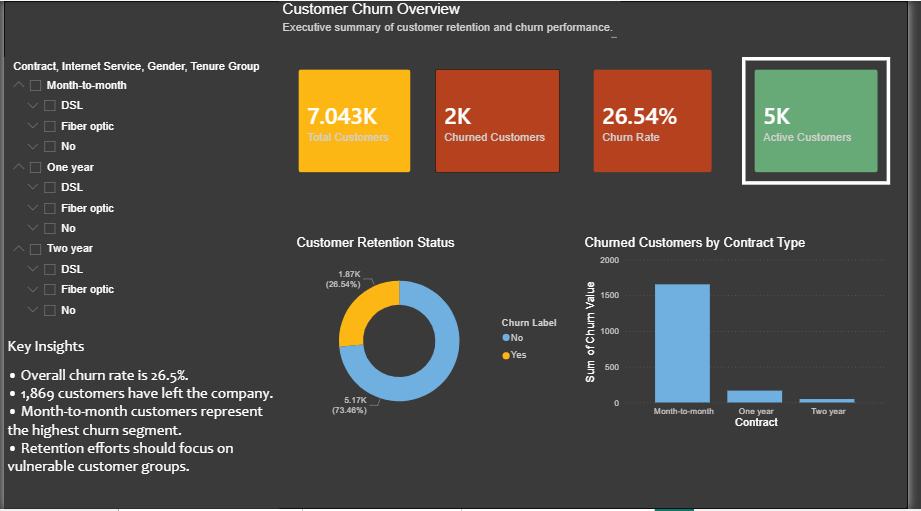

The dashboard page shown, as its layout file describes it:
{"tool":"powerbi","page":{"name":"Customer Churn Overview","canvas":[1280,720],"ordinal":0},"visuals":[{"type":"cardVisual","title":"Total Customers Card","fields":{"Data":["Count(customer_churn_powerbi.CustomerID)"]},"box":[399.7,79.4,194.2,181.4],"z":0},{"type":"cardVisual","fields":{"Data":["Sum(customer_churn_powerbi.Churn Value)"]},"box":[593.9,79.4,211.2,181.4],"z":1000},{"type":"cardVisual","fields":{"Data":["customer_churn_powerbi.Churn Rate"]},"box":[817.9,79.2,203,181.4],"z":2000},{"type":"donutChart","title":"Customer Retention Status","fields":{"Category":["customer_churn_powerbi.Churn Label"],"Y":["Count(customer_churn_powerbi.CustomerID)"]},"box":[409,331.2,396,279.4],"z":3000},{"type":"clusteredColumnChart","title":"Churned Customers by Contract Type","fields":{"Category":["customer_churn_powerbi.Contract"],"Y":["Sum(customer_churn_powerbi.Churn Value)"]},"box":[817.9,331.2,437.8,279.4],"z":4000},{"type":"cardVisual","fields":{"Data":["customer_churn_powerbi.Active Customers"]},"box":[1045.4,79.2,210.2,181.4],"z":5000},{"type":"textbox","box":[0,470.9,390.2,249.1],"z":6000},{"type":"textbox","title":"Customer Churn Overview","box":[390.2,0,483.8,56.2],"z":7000},{"type":"slicer","fields":{"Values":["customer_churn_powerbi.Contract","customer_churn_powerbi.Internet Service","customer_churn_powerbi.Gender","customer_churn_powerbi.Tenure Group"]},"box":[0,79.4,409.6,391.2],"z":8000}]}

Visuals, with their boxes in screenshot pixels (x1, y1, x2, y2), scaled from the page's 1280x720 canvas onto the 921x511 screenshot:
"Total Customers Card" cardVisual: rect(288, 56, 427, 185)
cardVisual - Sum(customer_churn_powerbi.Churn Value): rect(427, 56, 579, 185)
cardVisual - customer_churn_powerbi.Churn Rate: rect(589, 56, 735, 185)
"Customer Retention Status" donutChart: rect(294, 235, 579, 433)
"Churned Customers by Contract Type" clusteredColumnChart: rect(589, 235, 904, 433)
cardVisual - customer_churn_powerbi.Active Customers: rect(752, 56, 903, 185)
textbox: rect(0, 334, 281, 510)
"Customer Churn Overview" textbox: rect(281, 0, 629, 40)
slicer - customer_churn_powerbi.Contract x customer_churn_powerbi.Internet Service: rect(0, 56, 295, 334)
